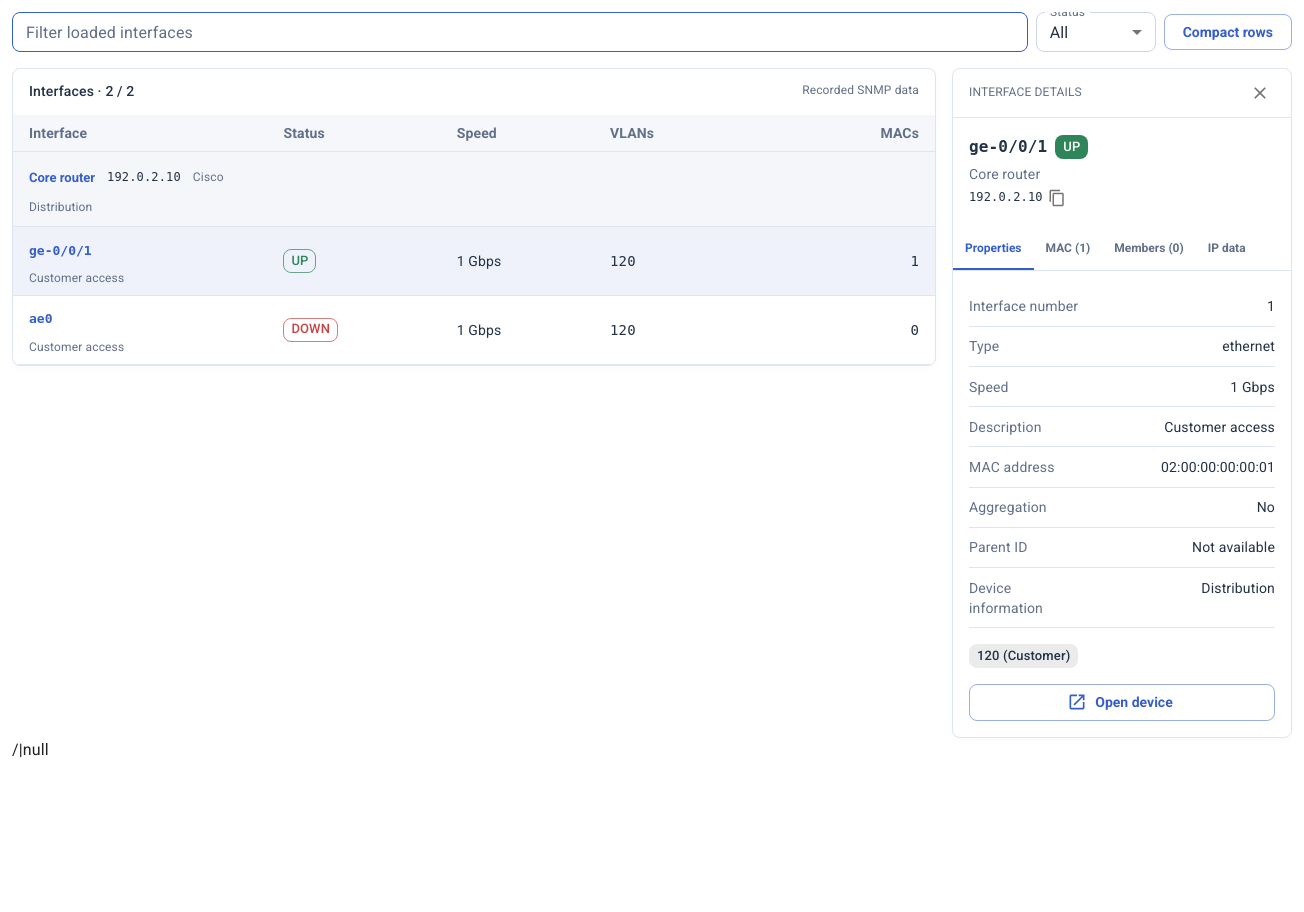
Test: engineering interface workspace › filters by status and closes and reopens the selected interface
What coordinates should you click on to do the following:
click the dropdown named "Status"
I would click on:
 (1059, 32)
Its box is x1=1050 y1=22 x2=1068 y2=42.
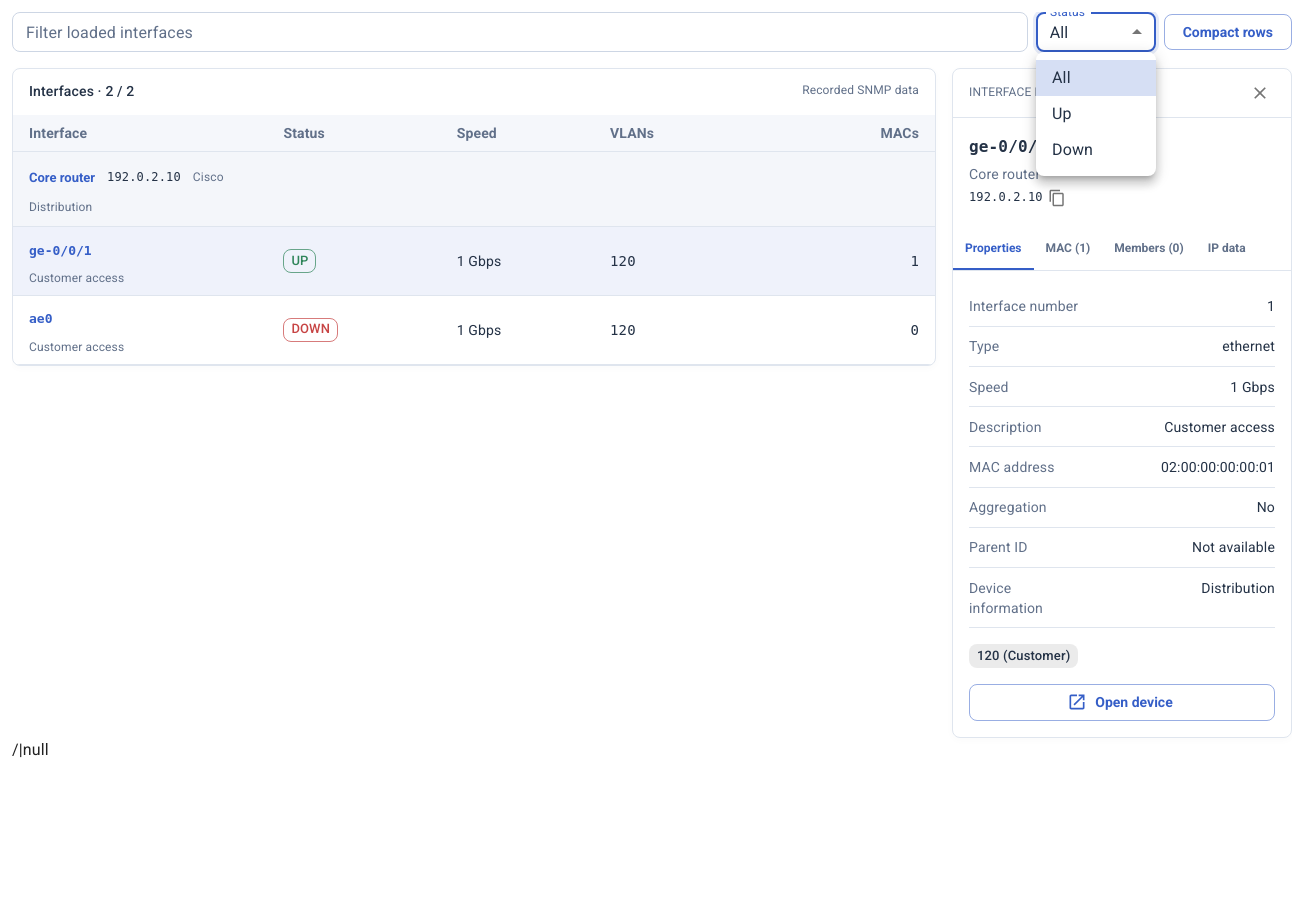
What coordinates should you click on to do the following:
click the option "Down"
I would click on:
 (1073, 150)
Its box is x1=1052 y1=140 x2=1093 y2=159.
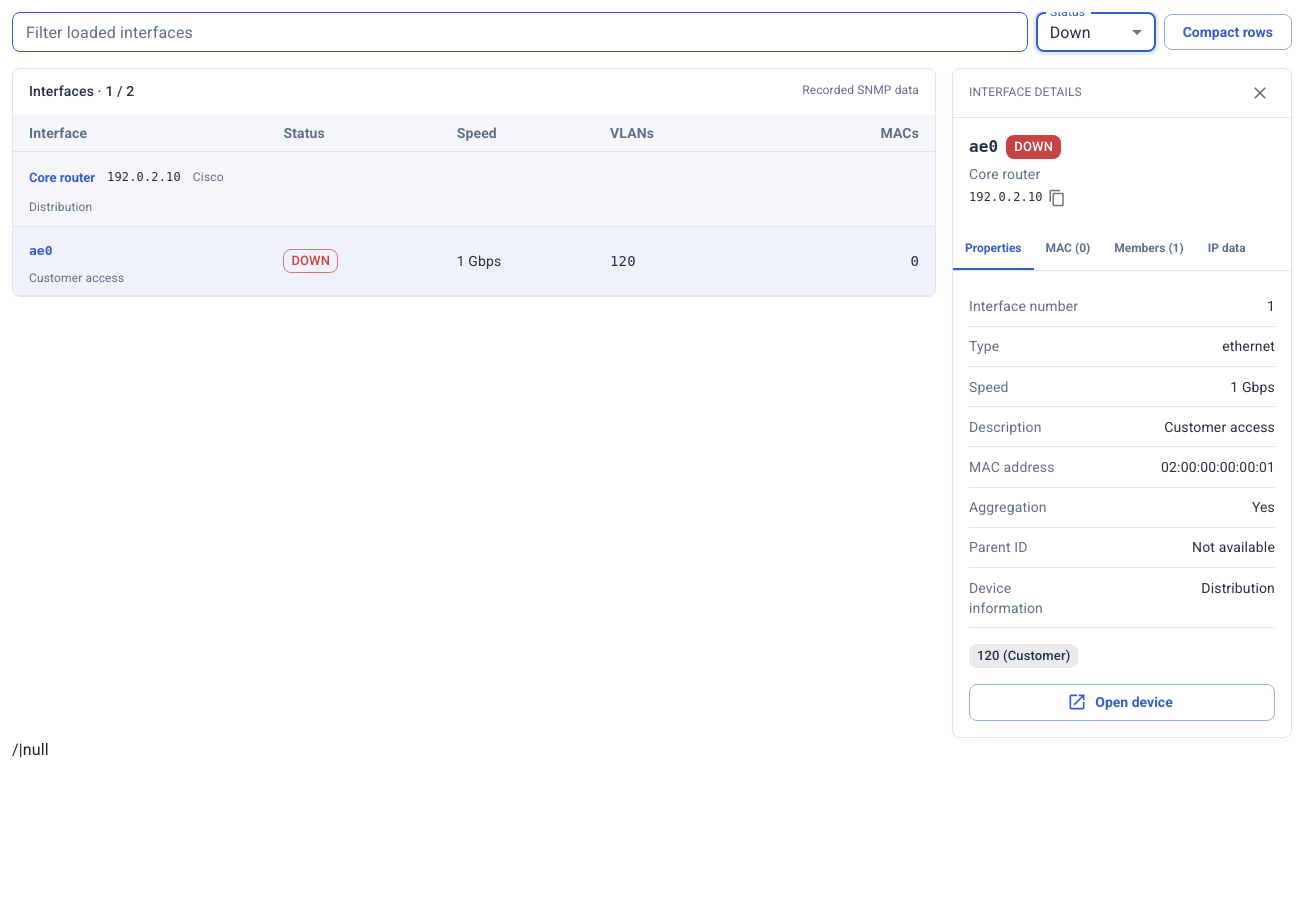
Expected: the heading "ae0" is shown, x1=969 y1=134 x2=998 y2=160
What coordinates should you click on to do the following:
click the button named "Close interface details"
I would click on:
 (1260, 93)
Its box is x1=1245 y1=78 x2=1275 y2=108.
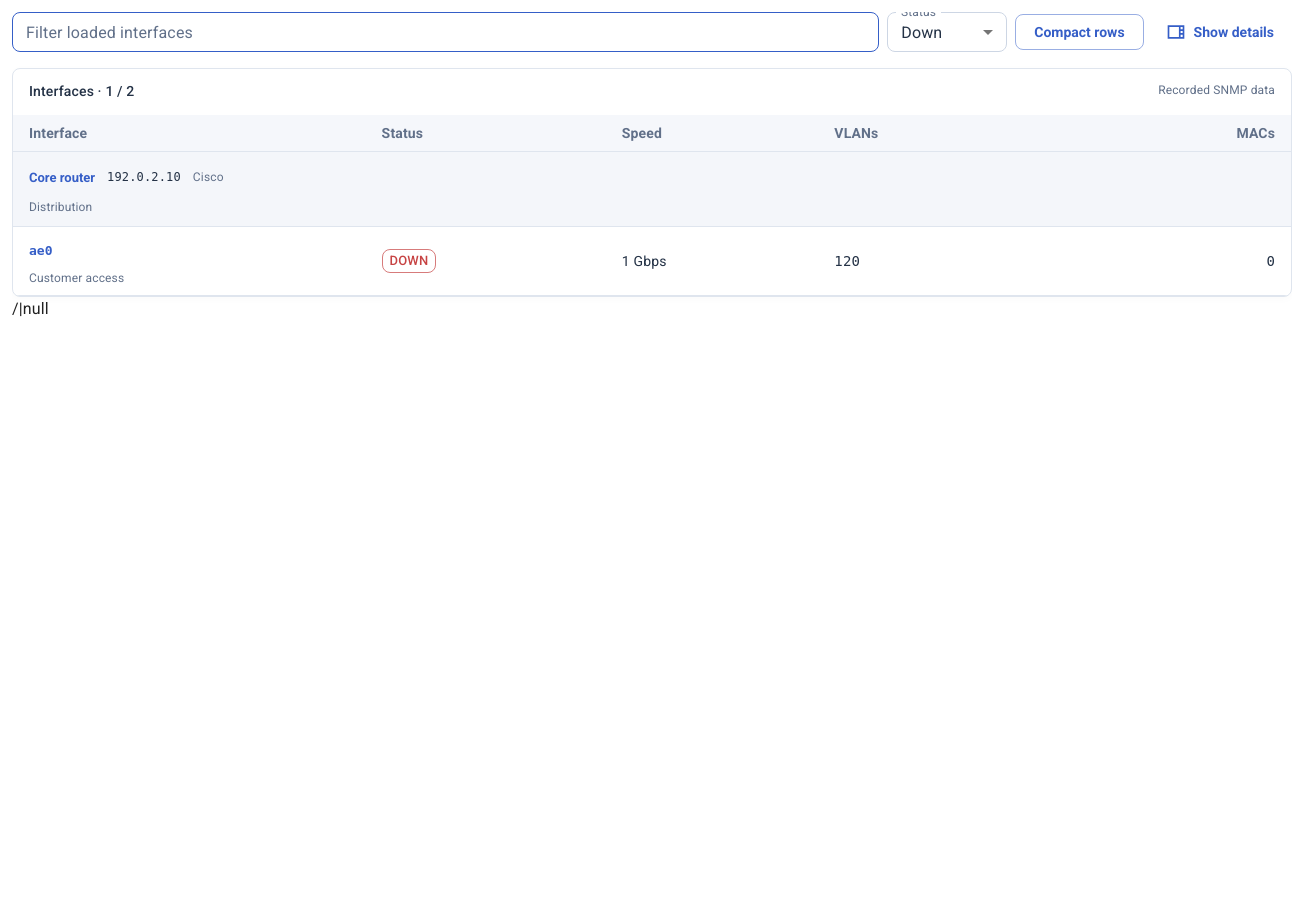
What coordinates should you click on to do the following:
click the button "Show details"
I would click on:
 (1222, 32)
Its box is x1=1152 y1=14 x2=1292 y2=50.
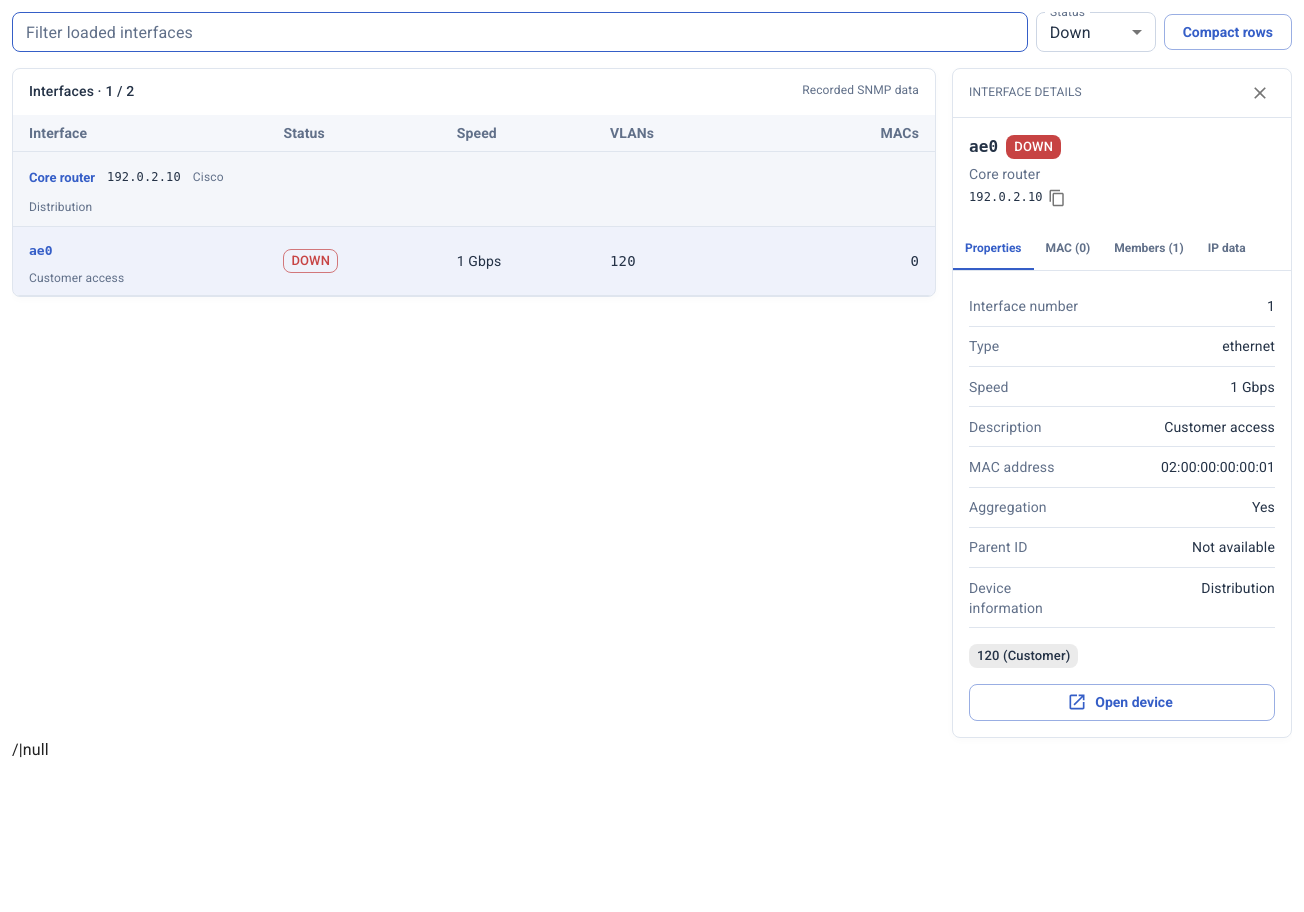
Expected: the heading "ae0" is shown, x1=969 y1=134 x2=998 y2=160
